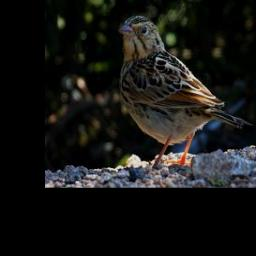Sparrow: (112, 9, 256, 170)
